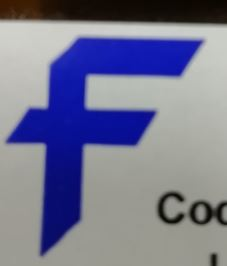Fisher: (2, 34, 209, 260)
